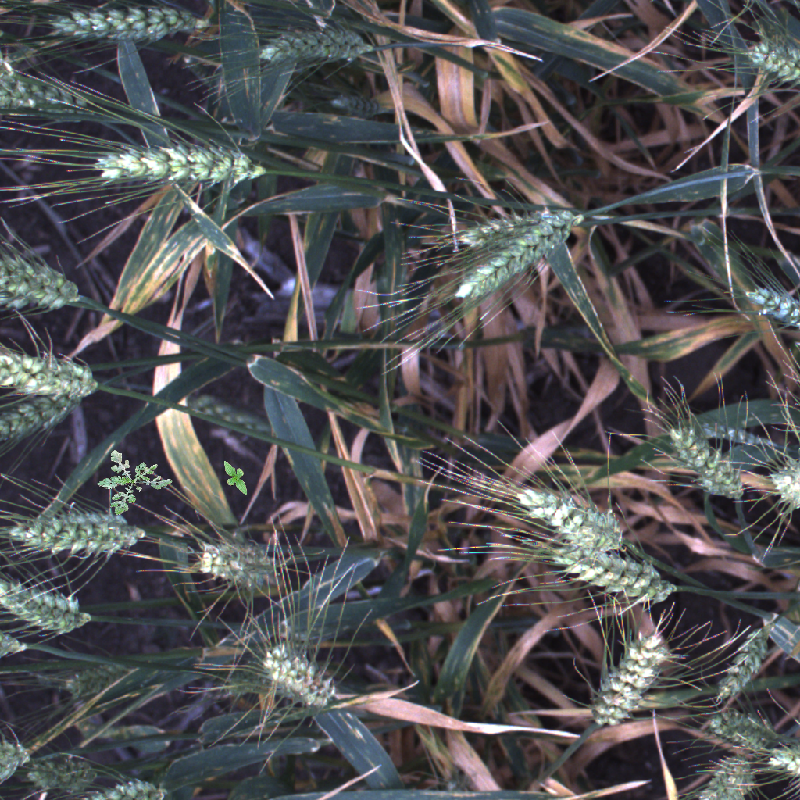spikelet: (443, 209, 590, 307), (508, 473, 634, 557), (1, 496, 154, 562), (539, 536, 682, 603), (78, 142, 264, 192), (1, 235, 97, 328), (248, 635, 349, 720), (654, 418, 750, 506), (28, 1, 219, 45), (592, 628, 668, 730), (1, 339, 108, 409), (444, 204, 592, 253), (184, 531, 294, 592), (1, 571, 100, 638), (696, 694, 800, 753), (17, 741, 110, 799), (248, 29, 387, 67), (1, 72, 104, 119), (1, 385, 87, 441), (692, 409, 784, 453), (739, 25, 800, 89), (714, 635, 765, 707), (696, 746, 757, 800), (80, 771, 185, 800), (736, 282, 800, 329), (751, 738, 800, 781), (57, 664, 126, 693), (767, 461, 800, 507), (331, 95, 377, 115)
weed: (92, 441, 177, 518), (214, 456, 257, 501)
